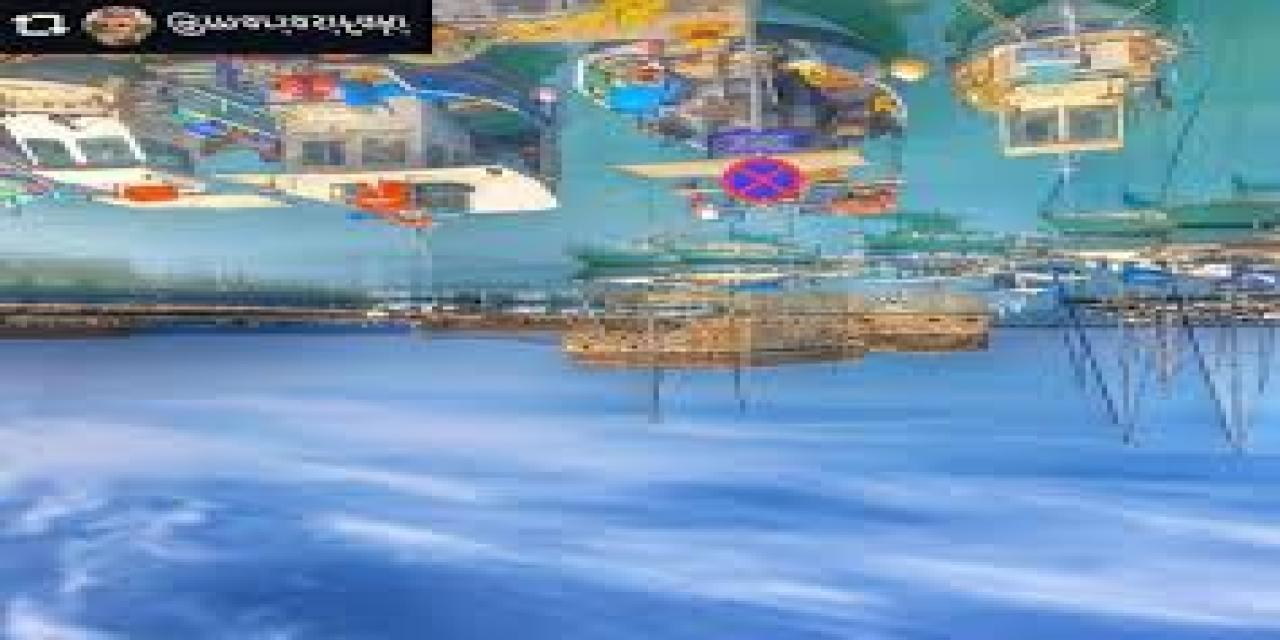Kules: (562, 312, 997, 384)
